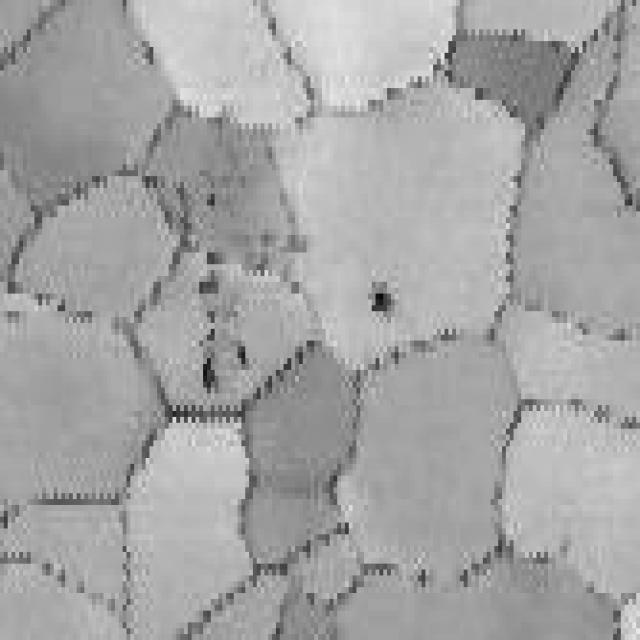good_void: (200, 354, 222, 397), (368, 277, 393, 314), (198, 271, 224, 299), (236, 343, 248, 368), (206, 325, 216, 345), (205, 191, 216, 209)
